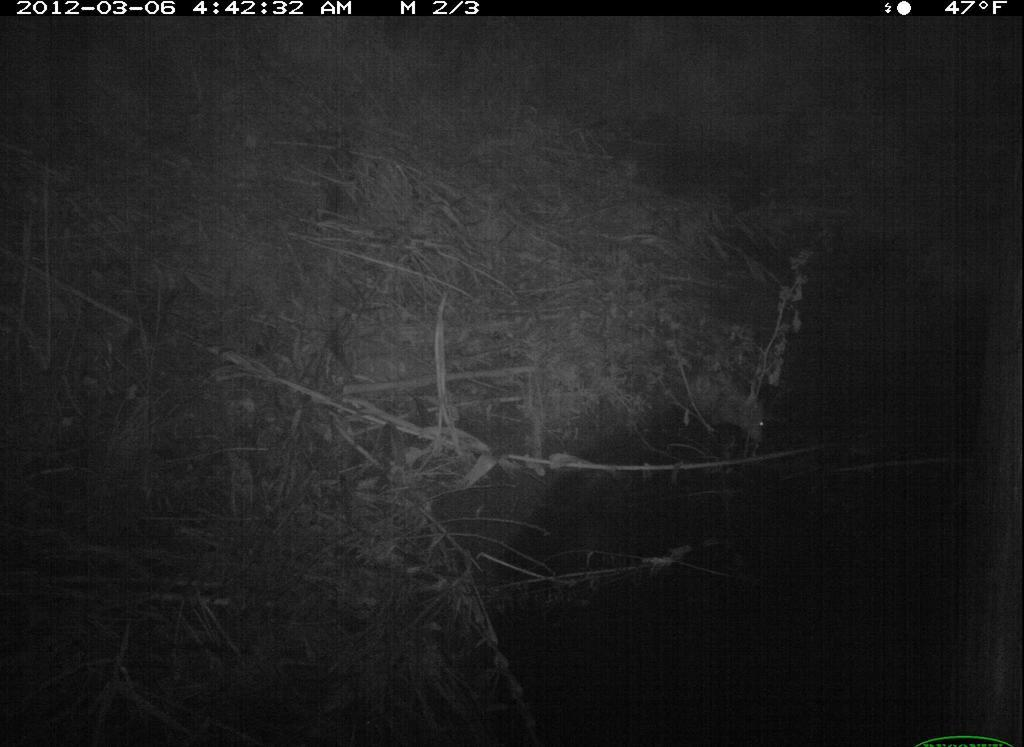opossum: (653, 345, 780, 463)
